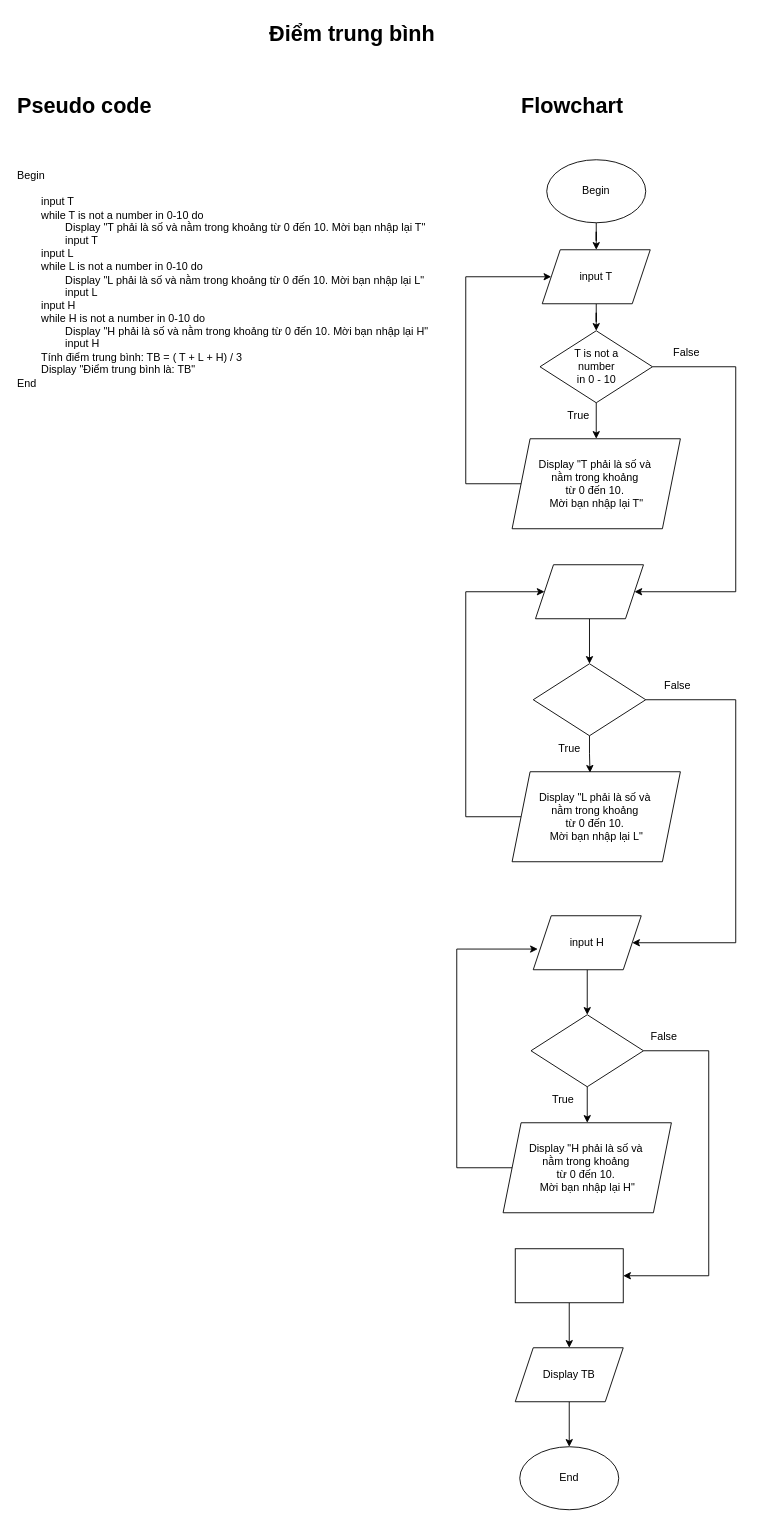
Some shapes in this 759 by 1526 pixel diagram are drawn without their labels. The shapes that lost their labels are listed below. From the top down, each one's centre as x and y in pixels, then its label:
(x=589, y=591): input L
(x=589, y=699): L is not a number in 0 - 10
(x=587, y=1050): H is not a number in 0 - 10
(x=568, y=1275): TB = (T + L + H) / 3
